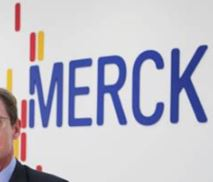Merck: (1, 3, 209, 174)
